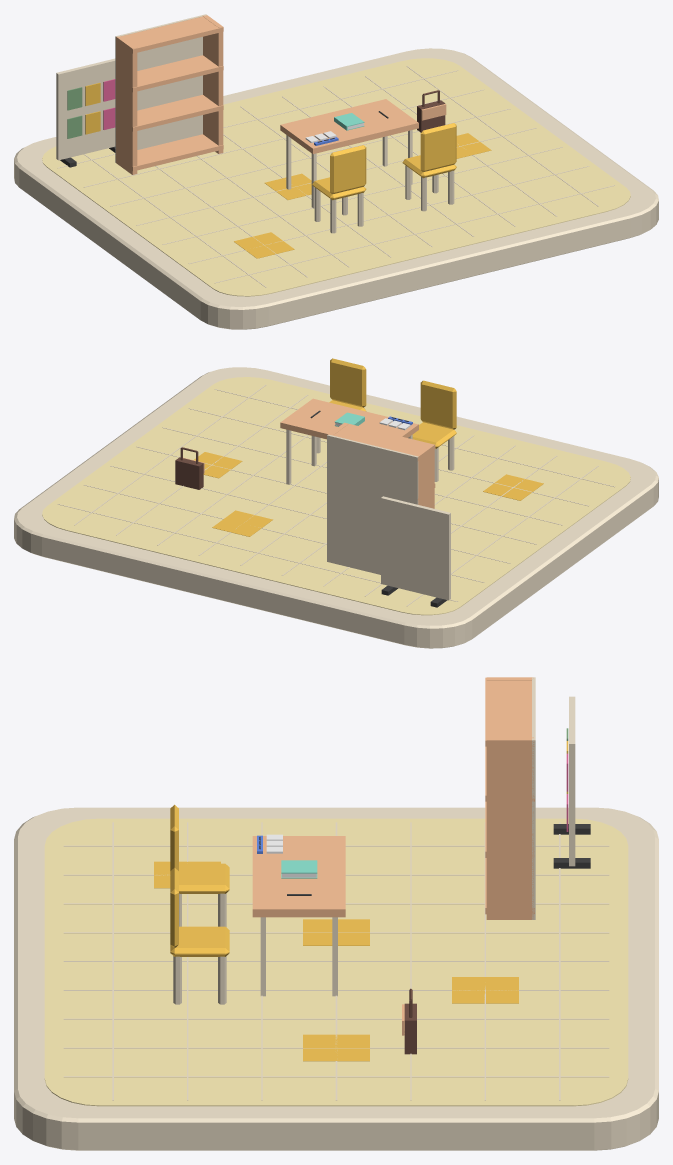
The picture shows the model from 3 angles, top to bottom: view 1: azimuth 30°, elevation 25°; view 2: azimuth 150°, elevation 25°; view 3: azimuth 270°, elevation 25°; orthographic projection. The views are drawn at different scales.
Visible parts, largest first — view 1: COM-02 Floor Surface, COM-01 Rounded Base Direct, Top, Back, Panel, Side, Side.001, Shelf.003, Shelf, Shelf.002, Shelf.001, Backrest (+11 smaller); view 2: COM-02 Floor Surface, COM-01 Rounded Base Direct, Back, Panel, Top, Backrest, Backrest.001, Shelf.003, Side, Bag, Geometric color tile.002, Geometric color tile (+3 smaller); view 3: COM-02 Floor Surface, COM-01 Rounded Base Direct, Side.001, Top, Shelf.003, Geometric color tile.003, Geometric color tile.002, Geometric color tile.001, Seat.001, Seat, Panel, Grout X.008 (+8 smaller).
Part boxes in pixels (<box>): COM-02 Floor Surface: <box>42,58,630,296</box>; COM-01 Rounded Base Direct: <box>14,48,658,329</box>; Top: <box>280,99,418,208</box>; Back: <box>115,14,206,162</box>; Panel: <box>56,58,115,160</box>; Side: <box>116,36,137,174</box>; Side.001: <box>202,15,223,153</box>; Shelf.003: <box>122,16,223,53</box>; Shelf: <box>119,134,223,171</box>; Shelf.002: <box>124,55,223,92</box>; Shelf.001: <box>124,94,223,131</box>; Backrest: <box>330,145,366,194</box>; COM-02 Floor Surface: <box>42,377,630,615</box>; COM-01 Rounded Base Direct: <box>14,367,658,648</box>; Back: <box>327,434,418,574</box>; Panel: <box>381,496,450,600</box>; Top: <box>280,398,418,484</box>; Backrest: <box>420,380,456,429</box>; Backrest.001: <box>330,358,366,407</box>; Shelf.003: <box>333,422,435,461</box>; Side: <box>414,444,434,508</box>; Bag: <box>175,447,204,489</box>; Geometric color tile.002: <box>212,510,272,536</box>; Geometric color tile: <box>483,474,543,500</box>; COM-02 Floor Surface: <box>44,818,628,1106</box>; COM-01 Rounded Base Direct: <box>14,807,658,1150</box>; Side.001: <box>486,737,533,919</box>; Top: <box>252,836,345,996</box>; Shelf.003: <box>485,677,534,746</box>; Geometric color tile.003: <box>303,1034,369,1061</box>; Geometric color tile.002: <box>452,977,518,1003</box>; Geometric color tile.001: <box>303,919,369,945</box>; Seat.001: <box>170,926,229,956</box>; Seat: <box>179,863,229,893</box>; Panel: <box>569,696,575,866</box>; Grout X.008: <box>63,1076,609,1077</box>.
Size of the model in its own units: 6 by 1.9 by 5.2.
1 material, 1 textured.
